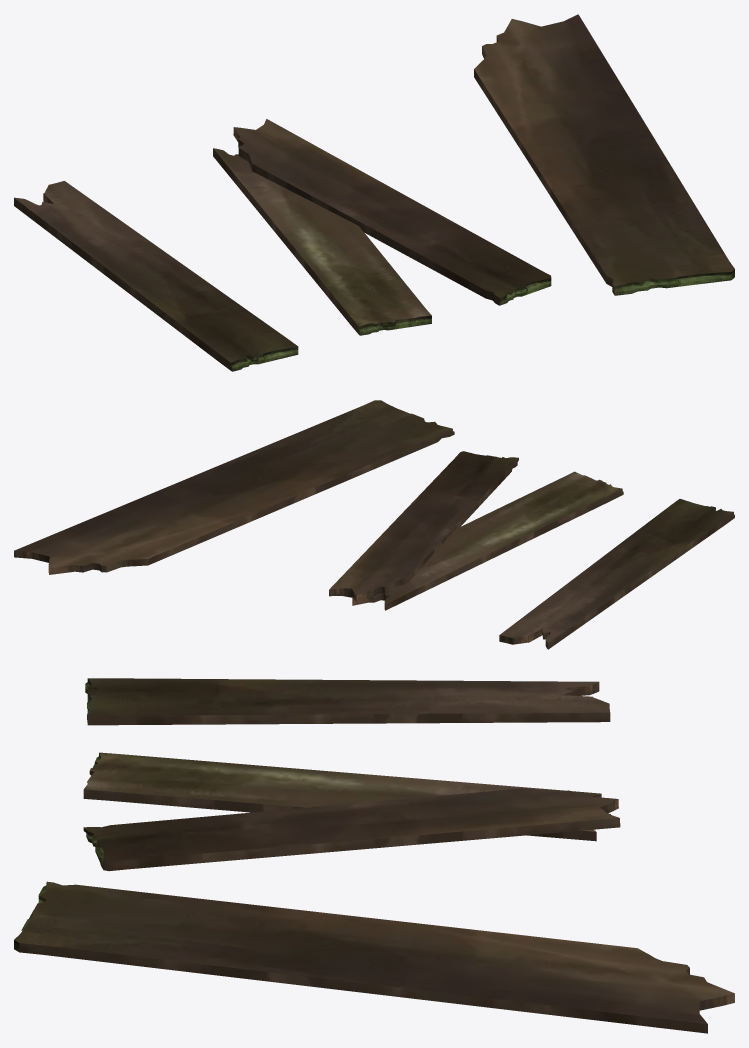
The model's file is t_tablas_podridas.glb.
3 views of the same model, one above another, from view 1: azimuth 30°, elevation 25°; view 2: azimuth 150°, elevation 25°; view 3: azimuth 270°, elevation 25° (orthographic). The views are drawn at different scales.
Visible parts, largest first — view 1: pCube1_Planks_Tex_0; view 2: pCube1_Planks_Tex_0; view 3: pCube1_Planks_Tex_0.
Part boxes in pixels (<box>): pCube1_Planks_Tex_0: <box>14,14,734,371</box>; pCube1_Planks_Tex_0: <box>14,400,734,649</box>; pCube1_Planks_Tex_0: <box>14,678,734,1033</box>.
Bounding box in the file's own units: 1.8 × 0.0491 × 1.59.
Materials: 1 (1 with a texture image).
